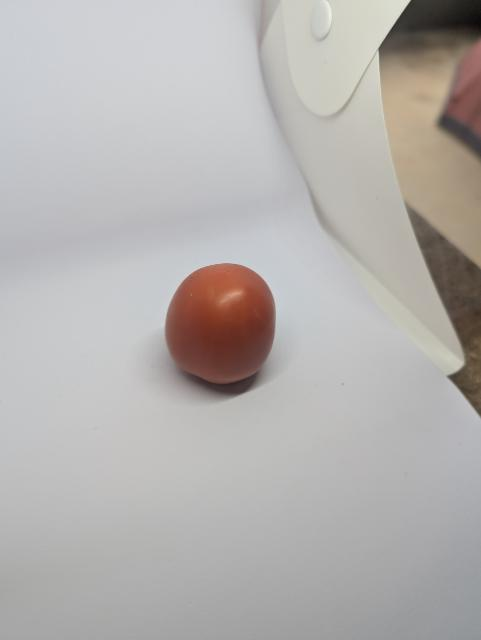red: (153, 251, 290, 399)
